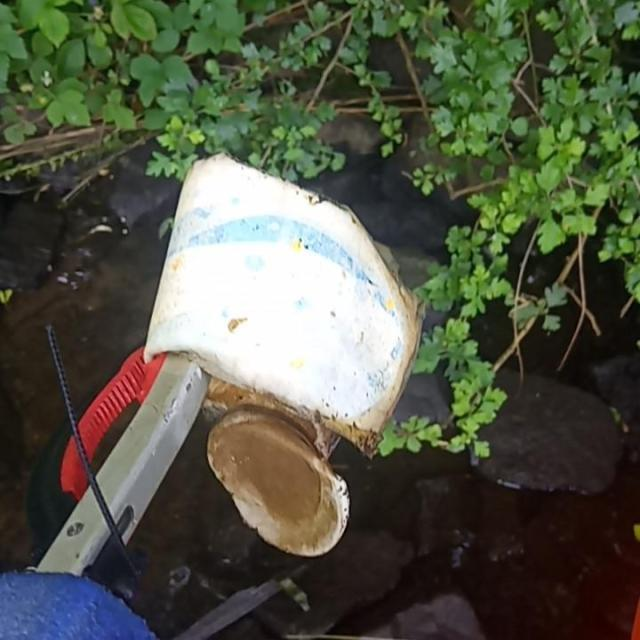Paper: (143, 148, 430, 562)
